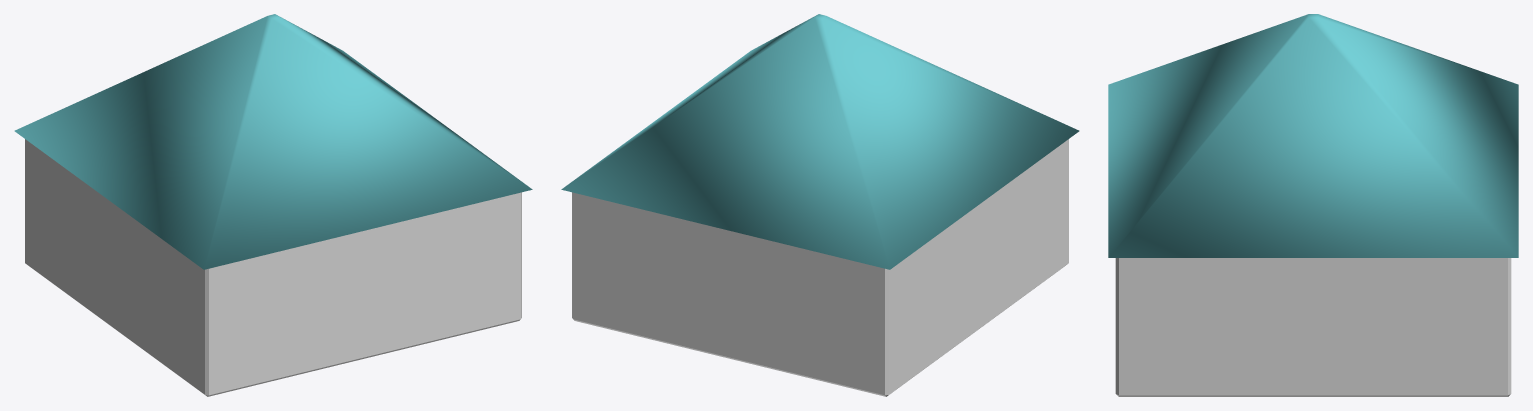
File: festival_tent.glb
The picture shows the model from 3 angles, left to right: view 1: azimuth 30°, elevation 25°; view 2: azimuth 150°, elevation 25°; view 3: azimuth 270°, elevation 25°; orthographic projection. The views are drawn at different scales.
Parts seen in each view (by area): view 1: festival_tent; view 2: festival_tent; view 3: festival_tent.
Boxes of the visible parts, bbox=[...] form: festival_tent: bbox=[14, 14, 532, 396]; festival_tent: bbox=[561, 14, 1079, 396]; festival_tent: bbox=[1108, 14, 1518, 396].
Size of the model in its own units: 6.22 by 5 by 6.22.
